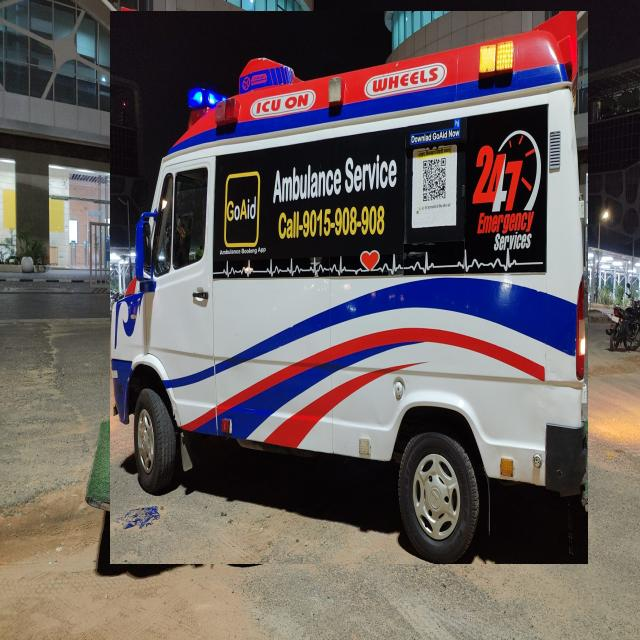emergency: (110, 11, 588, 564)
